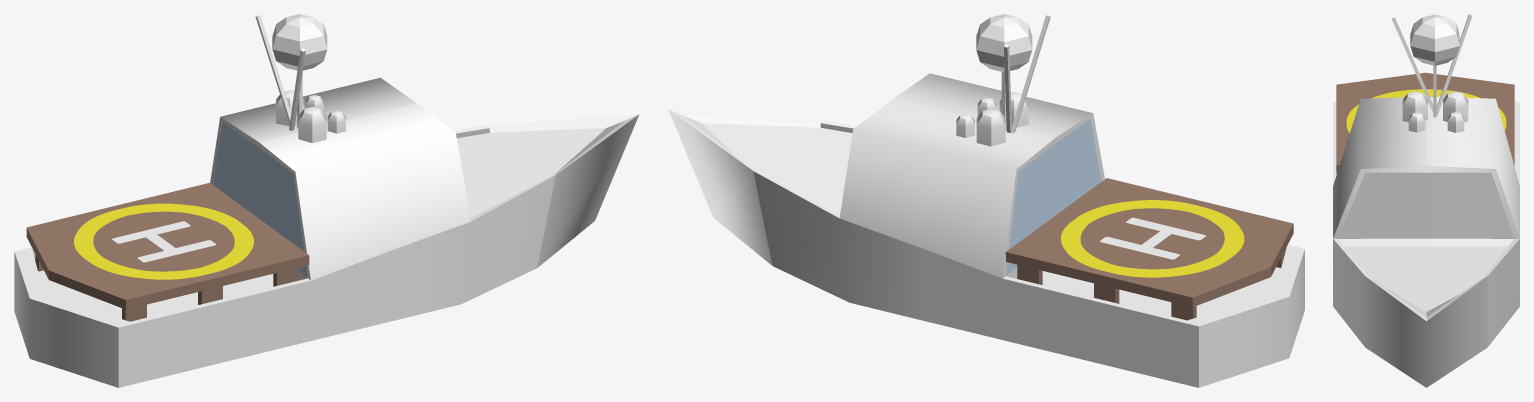
Rendered from coastGuardShip.obj.
3 views of the same model, side by side, from view 1: azimuth 30°, elevation 25°; view 2: azimuth 150°, elevation 25°; view 3: azimuth 270°, elevation 25° (orthographic). The views are drawn at different scales.
Visible parts, largest first — view 1: coastGuardShip; view 2: coastGuardShip; view 3: coastGuardShip.
Boxes of the visible parts, x1,y1,x2,y2 form: coastGuardShip: (14,14,639,387); coastGuardShip: (668,14,1304,387); coastGuardShip: (1333,14,1519,387).
Bounding box in the file's own units: 51.61 × 21.92 × 15.26.
5 materials, 1 textured.
